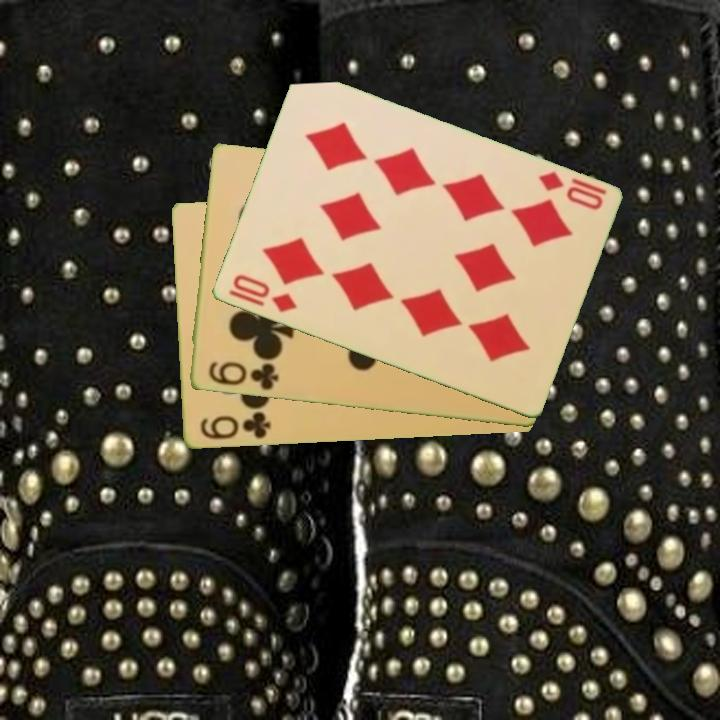10d: (534, 168, 609, 213), (228, 271, 300, 316)
6c: (204, 358, 281, 394), (196, 409, 273, 443)
